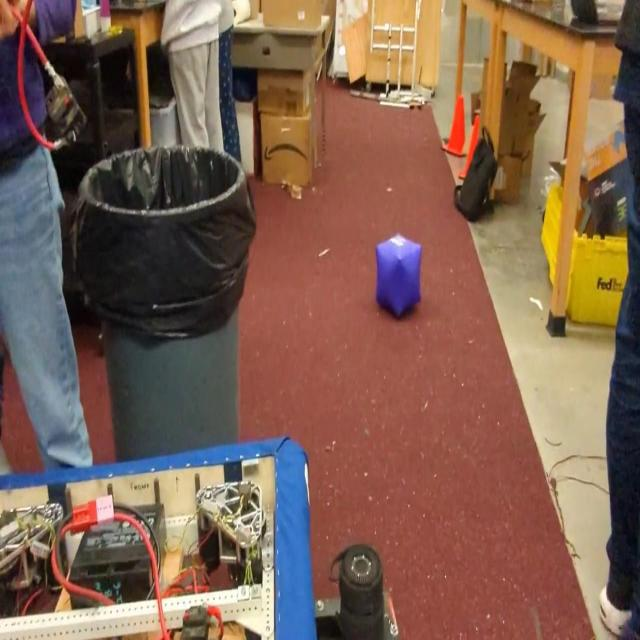frc_cube: (374, 237, 422, 319)
